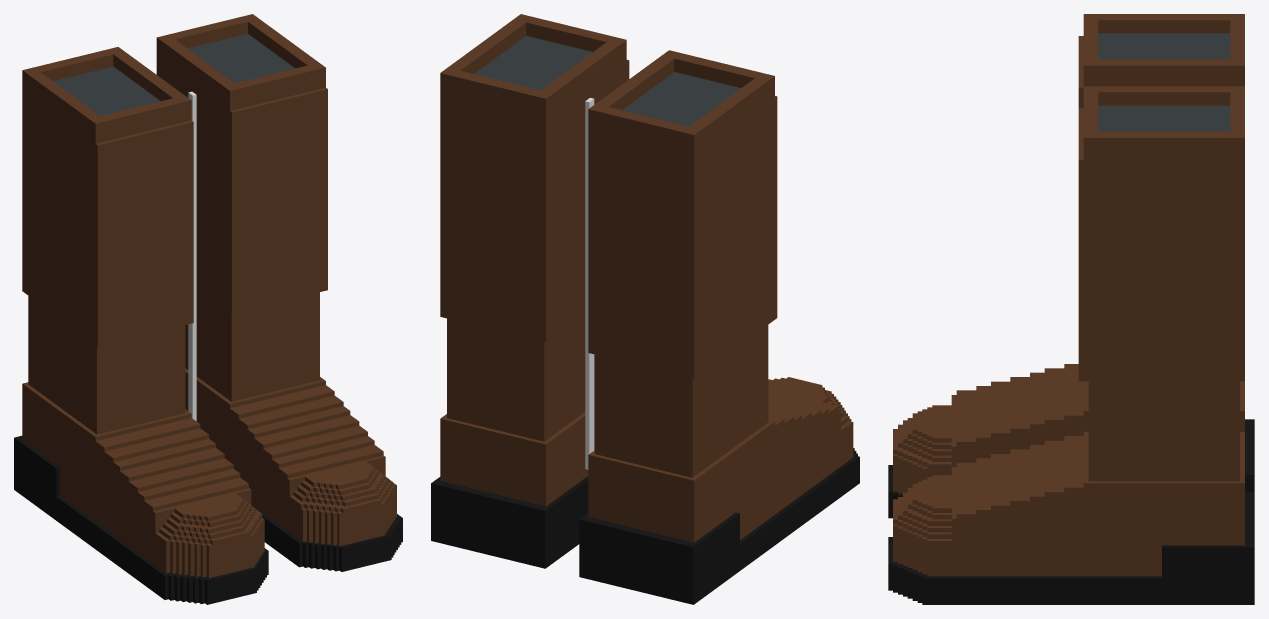
Rendered from knee_high_boots.glb.
3 views of the same model, side by side, from view 1: azimuth 30°, elevation 25°; view 2: azimuth 150°, elevation 25°; view 3: azimuth 270°, elevation 25° (orthographic). The views are drawn at different scales.
Visible parts, largest first — view 1: knee_high_boots:compound; view 2: knee_high_boots:compound; view 3: knee_high_boots:compound.
Part boxes in pixels (x1=…): knee_high_boots:compound: x1=14, y1=14, x2=402, y2=604; knee_high_boots:compound: x1=431, y1=14, x2=859, y2=604; knee_high_boots:compound: x1=888, y1=14, x2=1254, y2=604.
Size of the model in its own units: 0.248 by 0.42 by 0.3.
